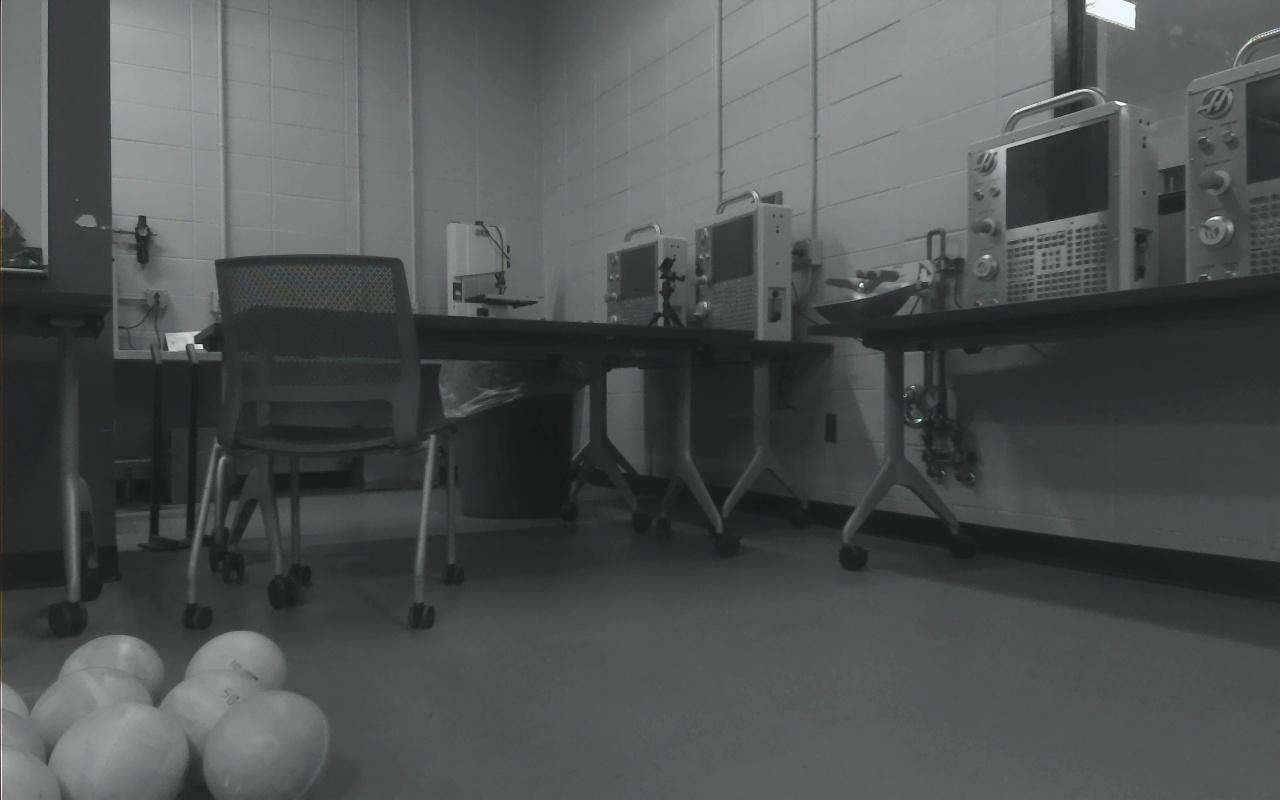Fuel: (202, 690, 330, 800), (49, 702, 189, 800), (160, 670, 264, 790), (29, 666, 154, 763), (59, 634, 166, 719), (184, 630, 287, 709), (0, 742, 64, 800), (0, 709, 46, 770), (0, 680, 29, 730)
